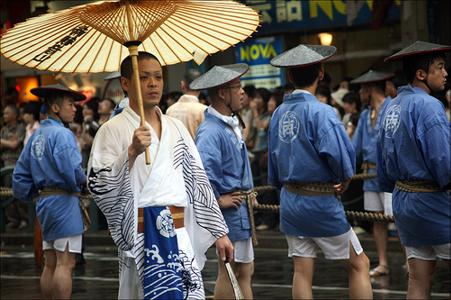person: (88, 51, 235, 300)
